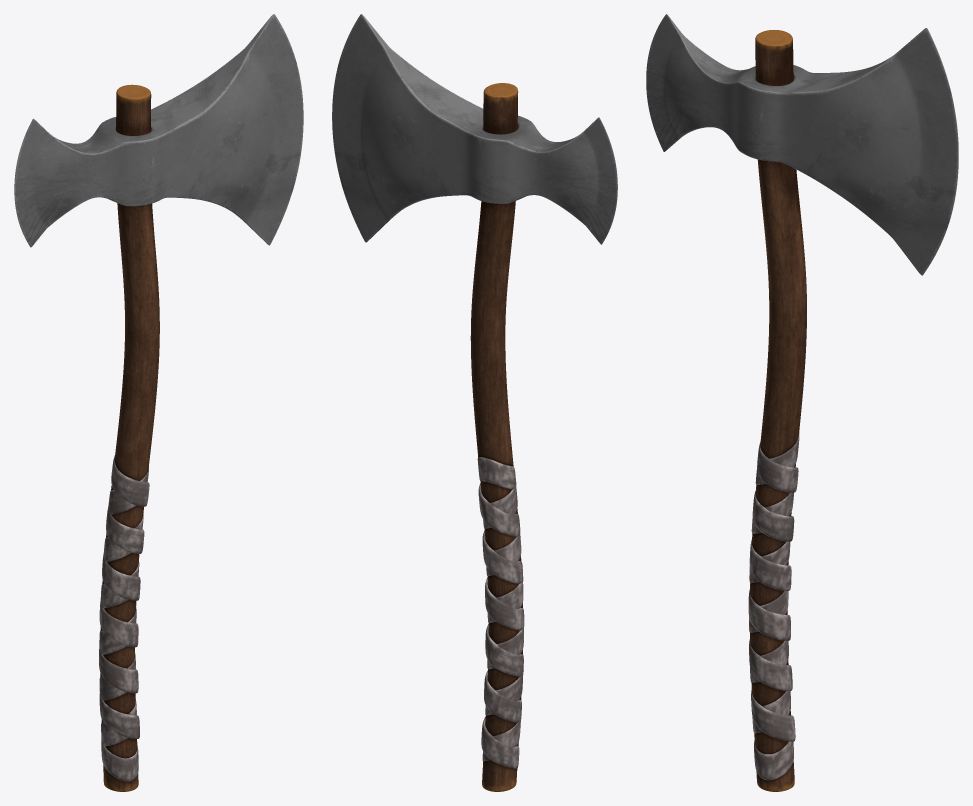
The model's file is axe.fbx.
3 renders of one model, left to right at view 1: azimuth 30°, elevation 25°; view 2: azimuth 150°, elevation 25°; view 3: azimuth 330°, elevation 25°, orthographic. The views are drawn at different scales.
Parts seen in each view (by area): view 1: Plane.005; view 2: Plane.005; view 3: Plane.005.
Part boxes in pixels (<box>): Plane.005: <box>14,14,303,791</box>; Plane.005: <box>332,14,617,791</box>; Plane.005: <box>646,14,958,791</box>.
Bounding box in the file's own units: 32.48 × 79.47 × 6.3.
